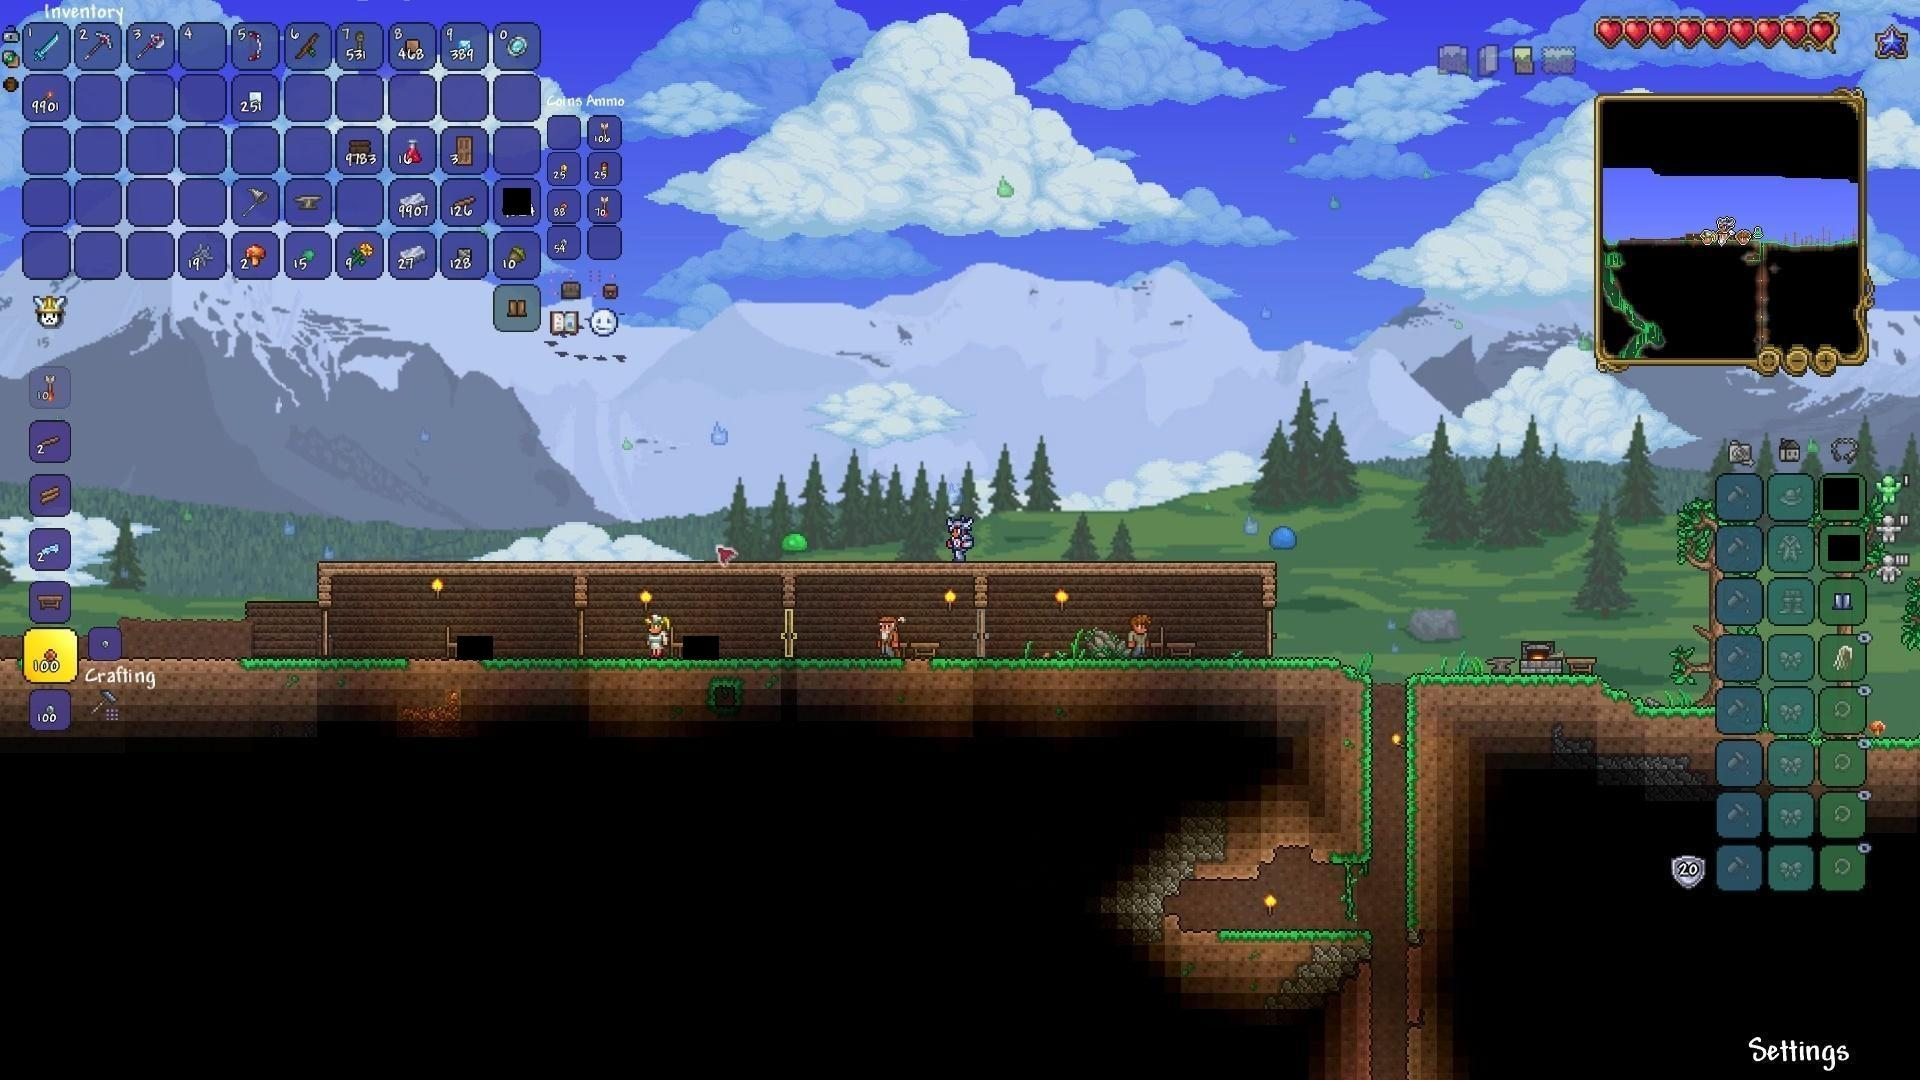legs: (1829, 585, 1854, 615)
slime: (1259, 521, 1300, 551), (775, 525, 814, 554)
wood: (36, 480, 62, 505)
workbench: (34, 592, 70, 618), (1162, 638, 1197, 661), (906, 638, 940, 661), (1564, 654, 1598, 676)
